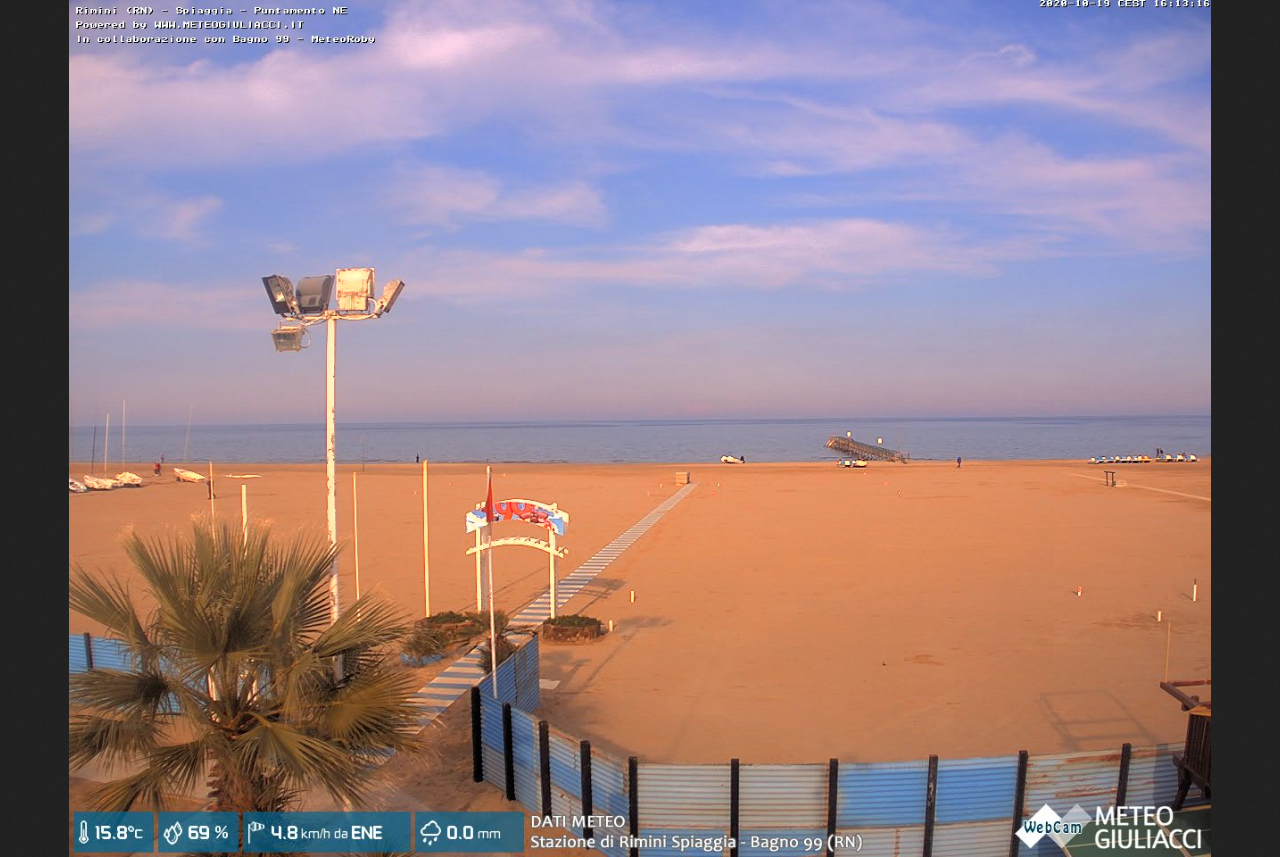no: (479, 476, 501, 529)
